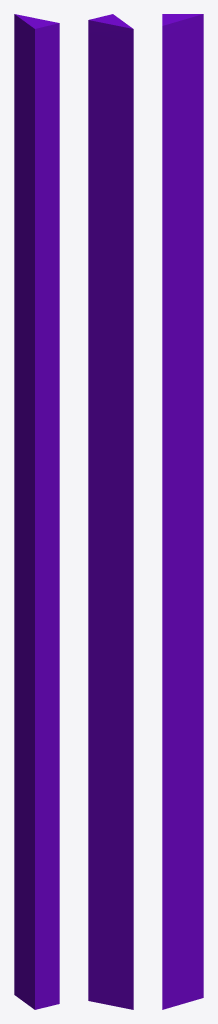
Rendered from simple_example_hole_part_38.obj.
3 views of the same model, side by side, from view 1: azimuth 30°, elevation 25°; view 2: azimuth 210°, elevation 25°; view 3: azimuth 270°, elevation 25° (orthographic).
Size of the model in its own units: 1.92 by 72.79 by 2.77.
